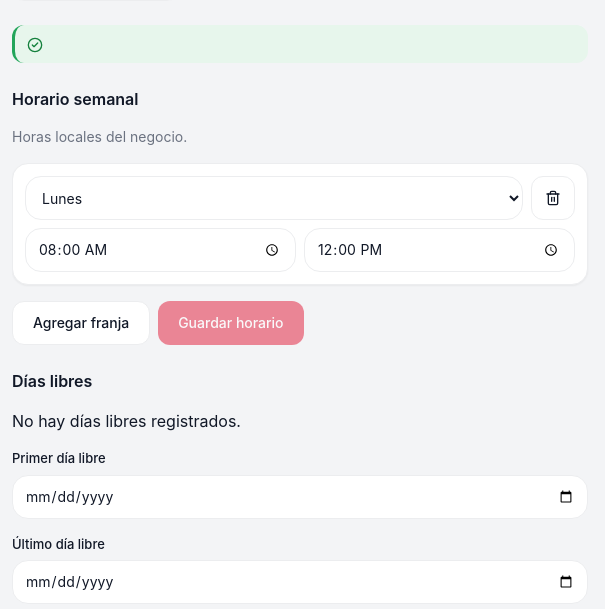
it: TechnicianDetailPage: horario semanal › agrega una franja y la guarda con vista previa y aplicación
(page scrolled)
Expected: the time field named "Inicio de la franja 1" is shown, [25,228,296,272]
Click the button "Agregar franja": point(81, 323) [12,301,150,345]
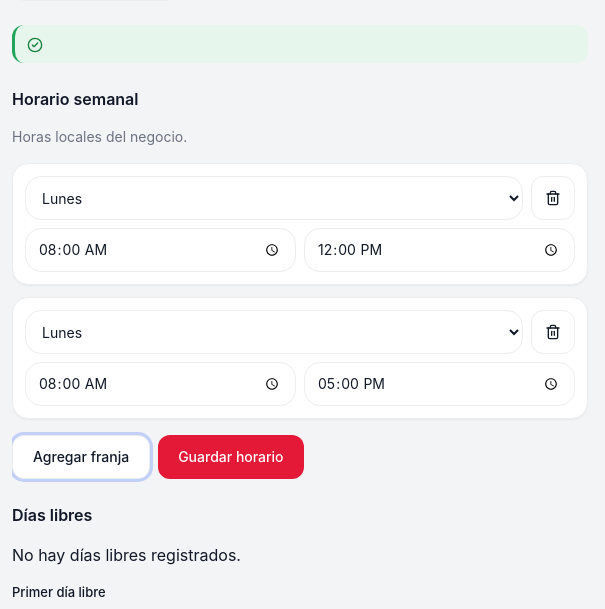
Select "Martes" in the dropdown named "Día de la franja 2": point(274, 332) [25,310,523,354]
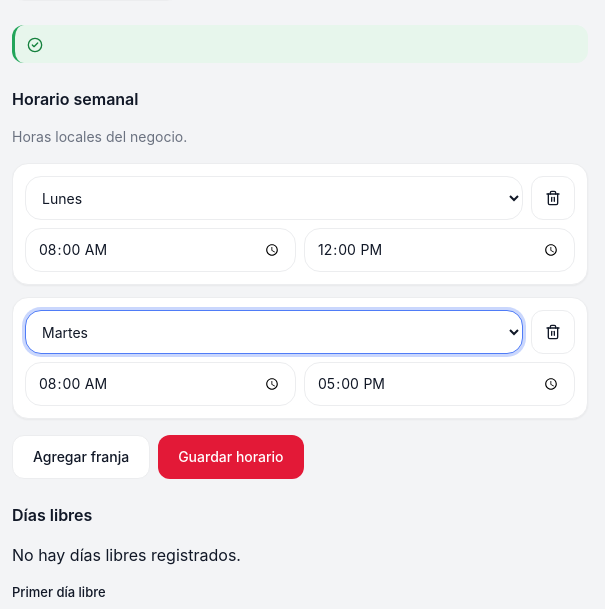
Click the button "Guardar horario": point(231, 457) [158,435,304,479]
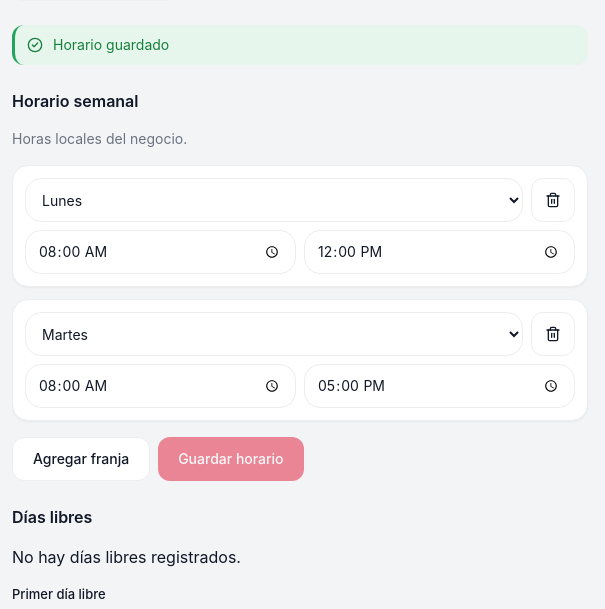
Expected: the dropdown named "Día de la franja 2" shows "Martes", [25,312,523,356]
Expected: the text "Horario guardado" is shown, [53,36,169,53]
